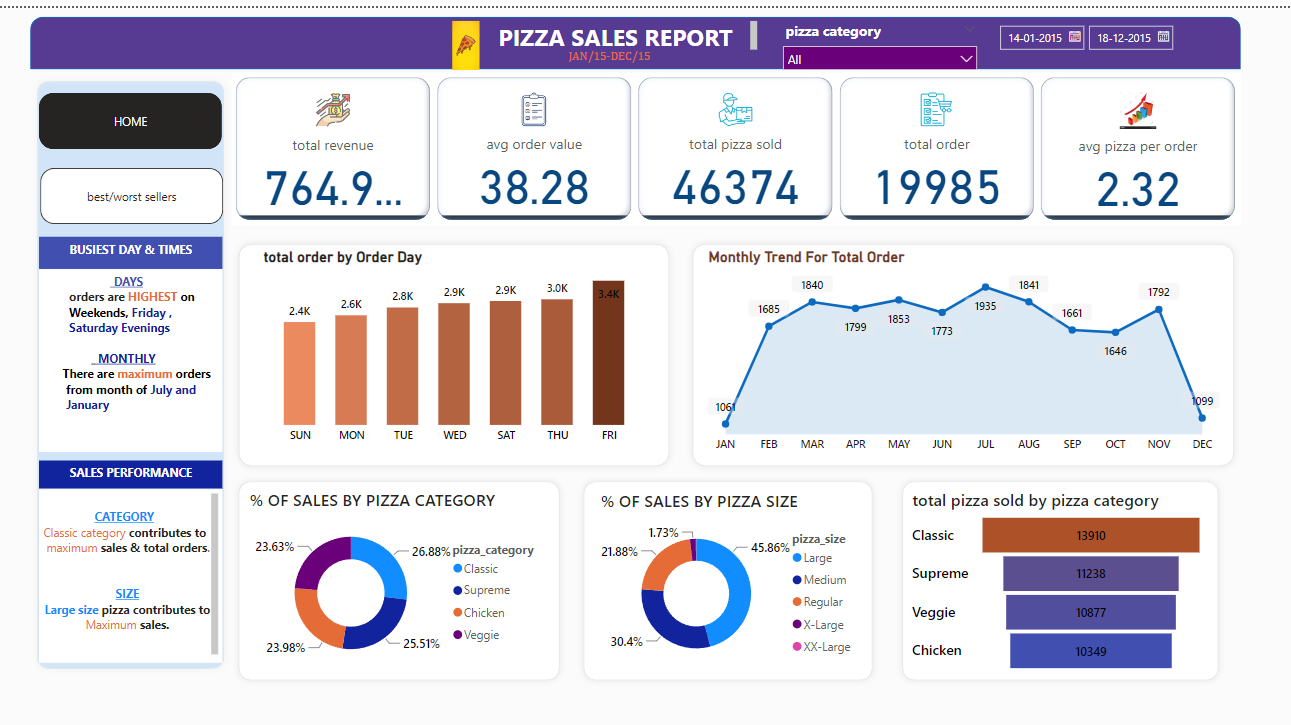

This screenshot's page, from the dashboard's own definition file:
{"tool":"powerbi","page":{"name":"HOME","canvas":[1500,820],"ordinal":0},"visuals":[{"type":"cardVisual","fields":{"Data":["pizza_sales (2).total revenue","pizza_sales (2).avg order value","pizza_sales (2).total pizza sold","pizza_sales (2).total order","pizza_sales (2).avg pizza per order"]},"box":[288.7,74.6,1153.5,173.2],"z":0},{"type":"shape","box":[58.9,9.6,1383.6,60.3],"z":1000},{"type":"textbox","box":[589,9.6,305.5,43.8],"z":2000},{"type":"textbox","box":[668.5,39.7,138.4,30.1],"z":3000},{"type":"image","box":[532.9,9.6,46.6,65.8],"z":4000},{"type":"shape","box":[288.7,262,508.5,270.4],"z":5000},{"type":"columnChart","fields":{"Category":["pizza_sales (2).Order Day"],"Y":["pizza_sales (2).total order"]},"box":[319.7,274.6,447.9,232.4],"z":6000},{"type":"shape","box":[807,262,635.2,270.4],"z":7000},{"type":"areaChart","title":"Monthly Trend For Total Order","fields":{"Category":["pizza_sales (2).Order month"],"Y":["pizza_sales (2).total order"]},"box":[828.2,274.6,594.4,242.3],"z":8000},{"type":"shape","box":[288.7,532.4,383.1,243.7],"z":9000},{"type":"shape","box":[683.1,532.4,346.5,243.7],"z":10000},{"type":"shape","box":[1046.5,532.4,377.5,243.7],"z":11000},{"type":"donutChart","title":"% OF SALES BY PIZZA CATEGORY","fields":{"Category":["pizza_sales (2).pizza_category"],"Y":["pizza_sales (2).total revenue"]},"box":[304.2,547.9,350.7,215.5],"z":12000},{"type":"donutChart","title":"% OF SALES BY PIZZA  SIZE","fields":{"Y":["pizza_sales (2).total revenue"],"Category":["pizza_sales (2).pizza_size"]},"box":[705.6,549.3,308.5,214.1],"z":13000},{"type":"funnel","title":"total pizza sold by pizza category","fields":{"Category":["pizza_sales (2).pizza_category"],"Y":["pizza_sales (2).total pizza sold"]},"box":[1062,547.9,343.7,215.5],"z":14000},{"type":"shape","box":[59.2,76.1,229.6,687.3],"z":15000},{"type":"textbox","box":[69,262,209.9,36.6],"z":16000},{"type":"textbox","box":[69,298.6,209.9,208.5],"z":17000},{"type":"textbox","box":[69,516.9,209.9,32.4],"z":18000},{"type":"textbox","box":[69,549.3,209.9,198.6],"z":19000},{"type":"slicer","fields":{"Values":["pizza_sales (2).pizza_category"]},"box":[909.1,9.7,242.2,59.9],"z":20000},{"type":"slicer","fields":{"Values":["pizza_sales (2).order_date"]},"box":[1154.1,9.7,268.7,59.9],"z":21000},{"type":"pageNavigator","box":[69,97.2,209.9,64.8],"z":22000},{"type":"pageNavigator","box":[70.4,183.1,209.9,64.8],"z":23000}]}

Visuals, with their boxes in screenshot pixels (x1, y1, x2, y2), scaled from the page's 1500x820 canvas onto the 1291x725 screenshot:
cardVisual - pizza_sales (2).total revenue x pizza_sales (2).avg order value: {"left": 248, "top": 66, "right": 1241, "bottom": 219}
shape: {"left": 51, "top": 8, "right": 1242, "bottom": 62}
textbox: {"left": 507, "top": 8, "right": 770, "bottom": 47}
textbox: {"left": 575, "top": 35, "right": 694, "bottom": 62}
image: {"left": 459, "top": 8, "right": 499, "bottom": 67}
shape: {"left": 248, "top": 232, "right": 686, "bottom": 471}
columnChart - pizza_sales (2).Order Day x pizza_sales (2).total order: {"left": 275, "top": 243, "right": 661, "bottom": 448}
shape: {"left": 695, "top": 232, "right": 1241, "bottom": 471}
"Monthly Trend For Total Order" areaChart: {"left": 713, "top": 243, "right": 1224, "bottom": 457}
shape: {"left": 248, "top": 471, "right": 578, "bottom": 686}
shape: {"left": 588, "top": 471, "right": 886, "bottom": 686}
shape: {"left": 901, "top": 471, "right": 1226, "bottom": 686}
"% OF SALES BY PIZZA CATEGORY" donutChart: {"left": 262, "top": 484, "right": 564, "bottom": 675}
"% OF SALES BY PIZZA  SIZE" donutChart: {"left": 607, "top": 486, "right": 873, "bottom": 675}
"total pizza sold by pizza category" funnel: {"left": 914, "top": 484, "right": 1210, "bottom": 675}
shape: {"left": 51, "top": 67, "right": 249, "bottom": 675}
textbox: {"left": 59, "top": 232, "right": 240, "bottom": 264}
textbox: {"left": 59, "top": 264, "right": 240, "bottom": 448}
textbox: {"left": 59, "top": 457, "right": 240, "bottom": 486}
textbox: {"left": 59, "top": 486, "right": 240, "bottom": 661}
slicer - pizza_sales (2).pizza_category: {"left": 782, "top": 9, "right": 991, "bottom": 62}
slicer - pizza_sales (2).order_date: {"left": 993, "top": 9, "right": 1225, "bottom": 62}
pageNavigator: {"left": 59, "top": 86, "right": 240, "bottom": 143}
pageNavigator: {"left": 61, "top": 162, "right": 241, "bottom": 219}
